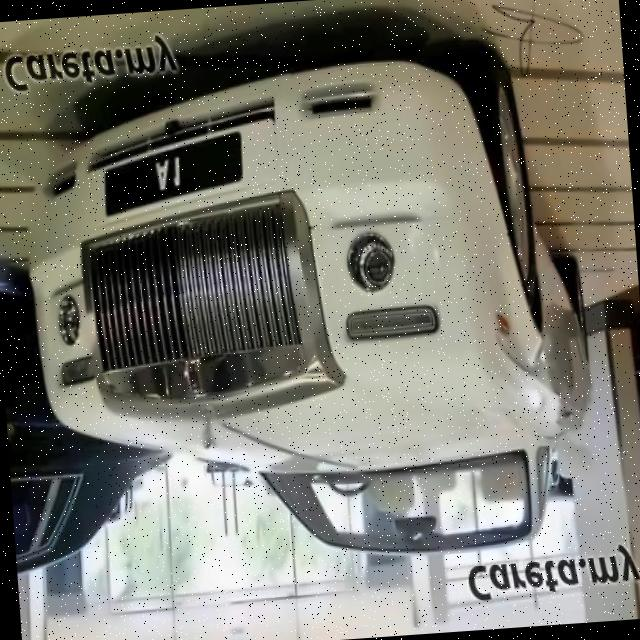License_Plate: (100, 130, 248, 231)
car: (11, 48, 605, 621)
